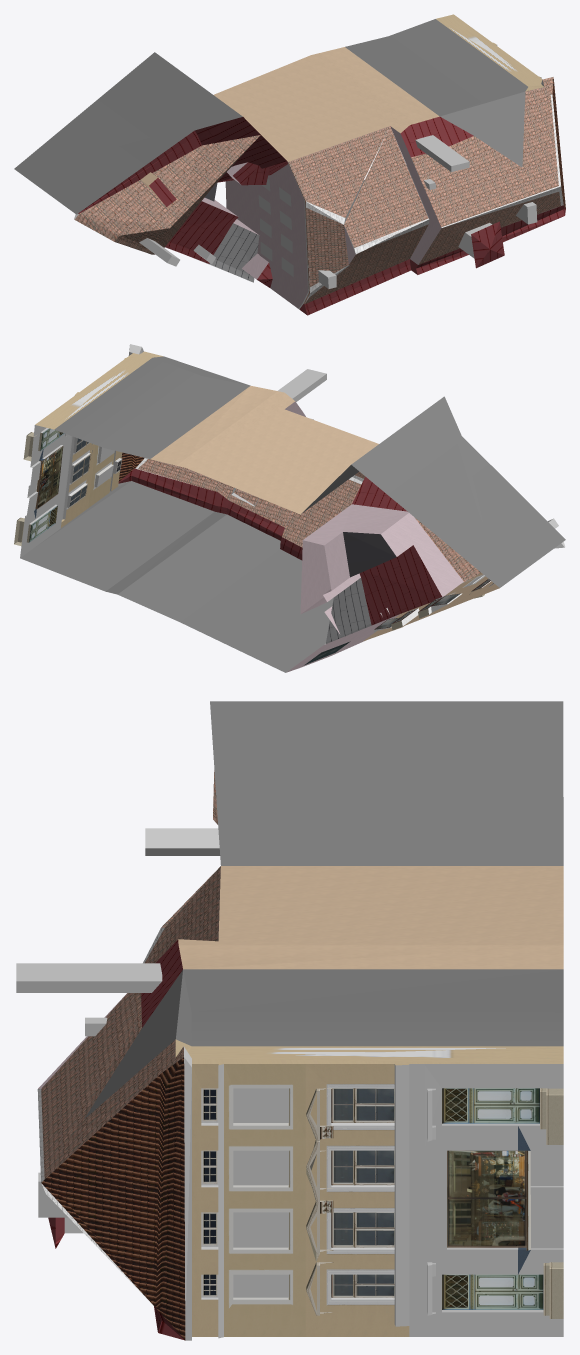
File: Kinga_3-origo.obj
3 renders of one model, top to bottom at view 1: azimuth 30°, elevation 25°; view 2: azimuth 150°, elevation 25°; view 3: azimuth 270°, elevation 25°, orthographic. The views are drawn at different scales.
Visible parts, largest first — view 1: Kinga_3; view 2: Kinga_3; view 3: Kinga_3.
Part boxes in pixels (x1,y1,x2,y2): Kinga_3: (14,14,565,315); Kinga_3: (14,344,565,672); Kinga_3: (16,701,563,1340).
Bounding box in the file's own units: 40.88 × 18.5 × 21.05.
